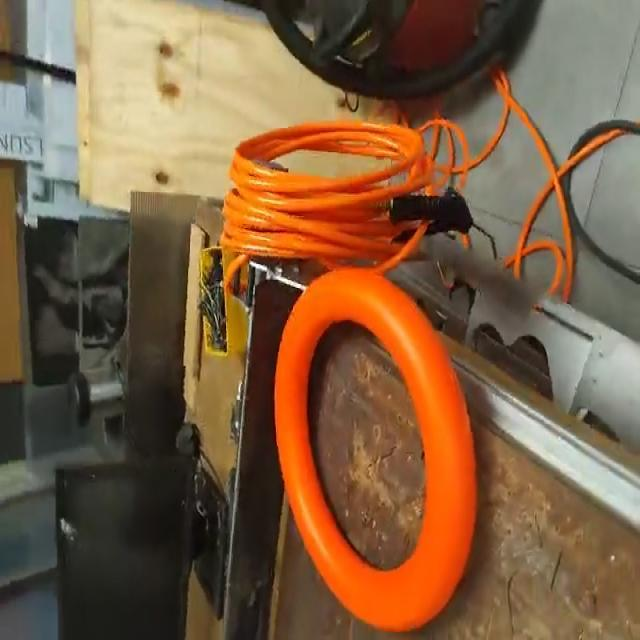note: (270, 265, 482, 632)
